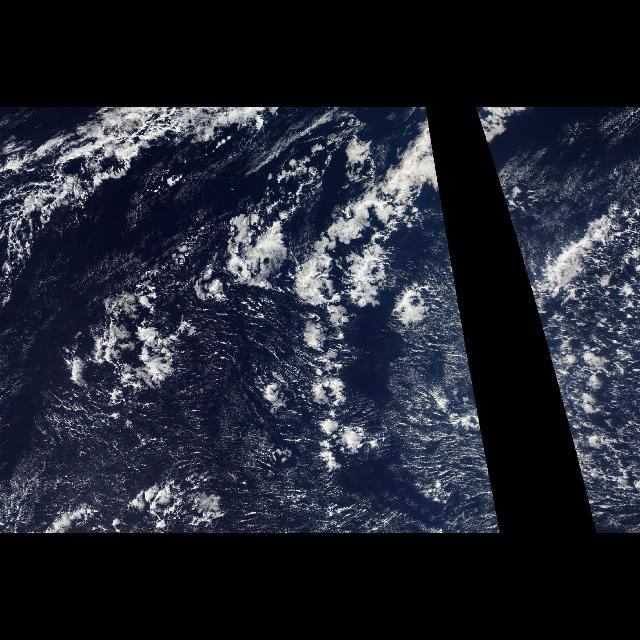Flower: (9, 214, 454, 458)
Gravel: (577, 244, 639, 498)
Sugar: (1, 318, 502, 532), (509, 118, 636, 208), (553, 372, 631, 508)
